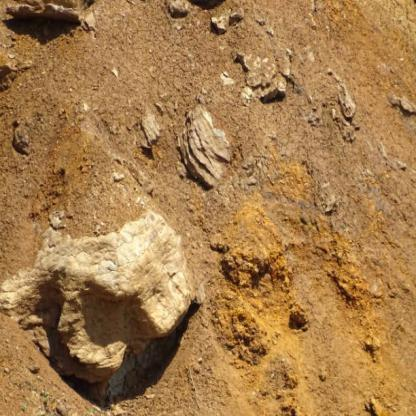Sedimentary_Limestone: (20, 202, 200, 407)
